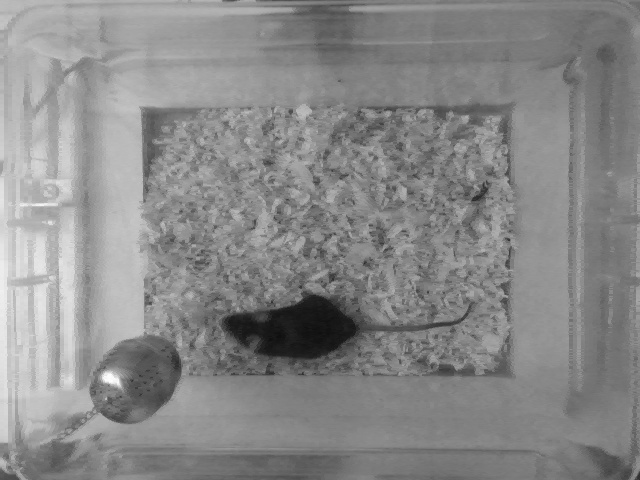mice: (218, 286, 482, 354)
